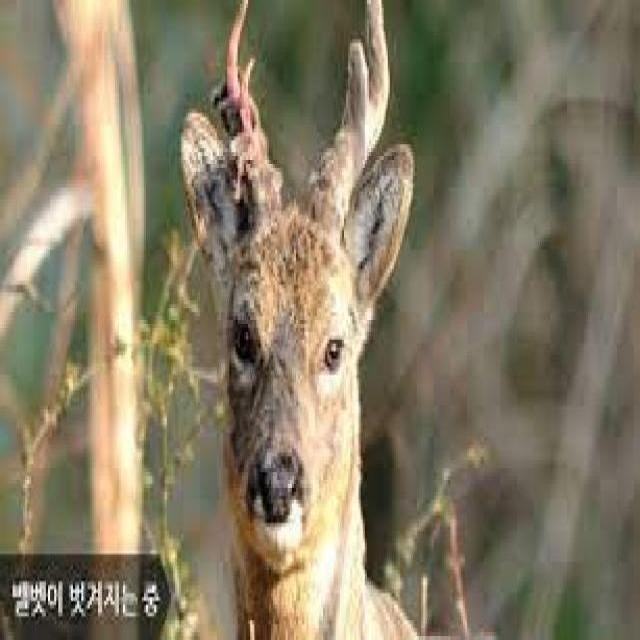deer: (167, 2, 423, 640)
